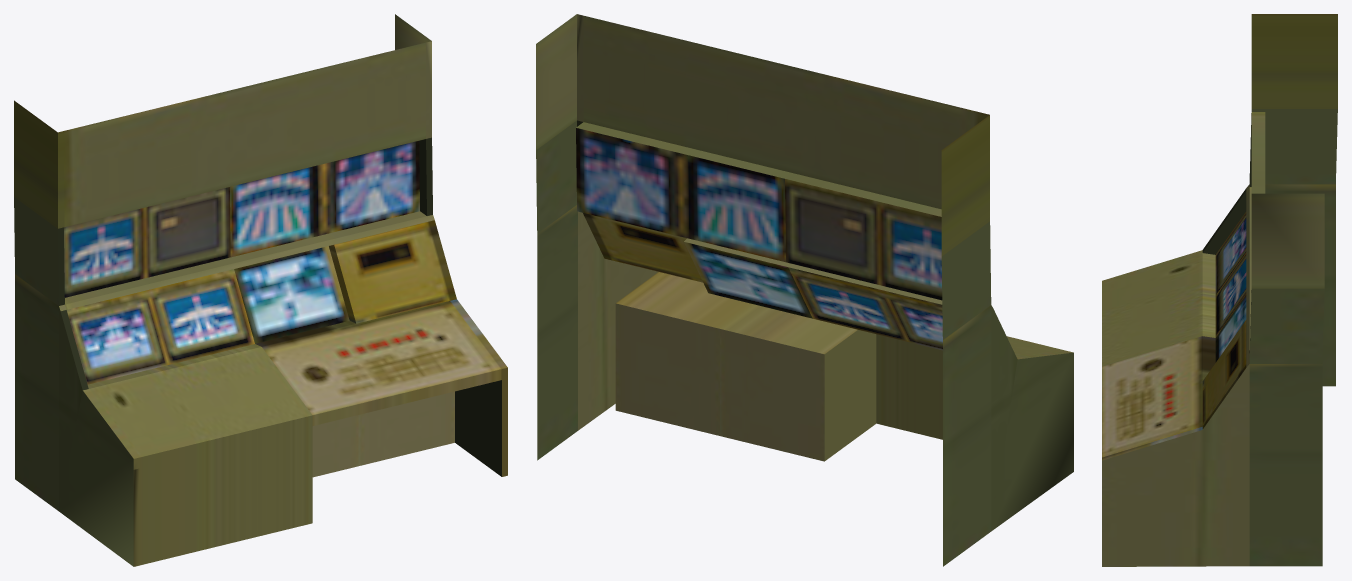
The model's file is Gam_Console.fbx.
3 views of the same model, side by side, from view 1: azimuth 30°, elevation 25°; view 2: azimuth 150°, elevation 25°; view 3: azimuth 270°, elevation 25° (orthographic). The views are drawn at different scales.
Visible parts, largest first — view 1: tripo_node_fbb7a864.002; view 2: tripo_node_fbb7a864.002; view 3: tripo_node_fbb7a864.002.
Boxes of the visible parts, x1,y1,x2,y2 form: tripo_node_fbb7a864.002: (14, 14, 507, 566); tripo_node_fbb7a864.002: (536, 14, 1073, 566); tripo_node_fbb7a864.002: (1102, 14, 1337, 566).
Size of the model in its own units: 310 by 300 by 172.
